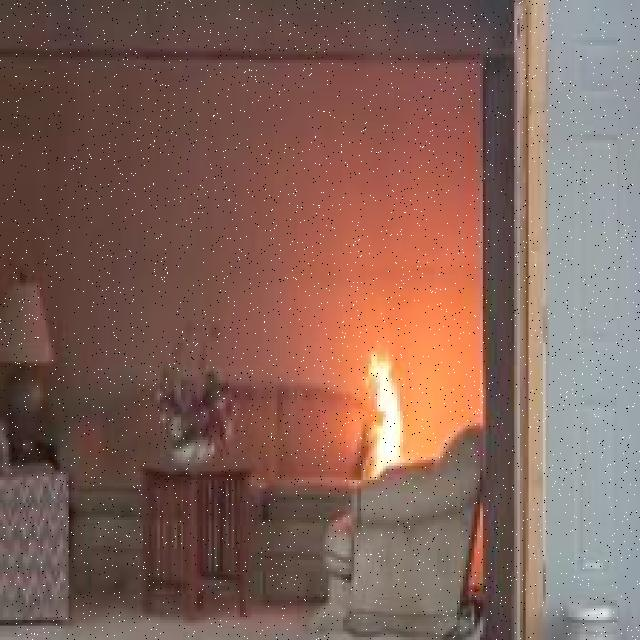fire: (356, 342, 410, 482)
